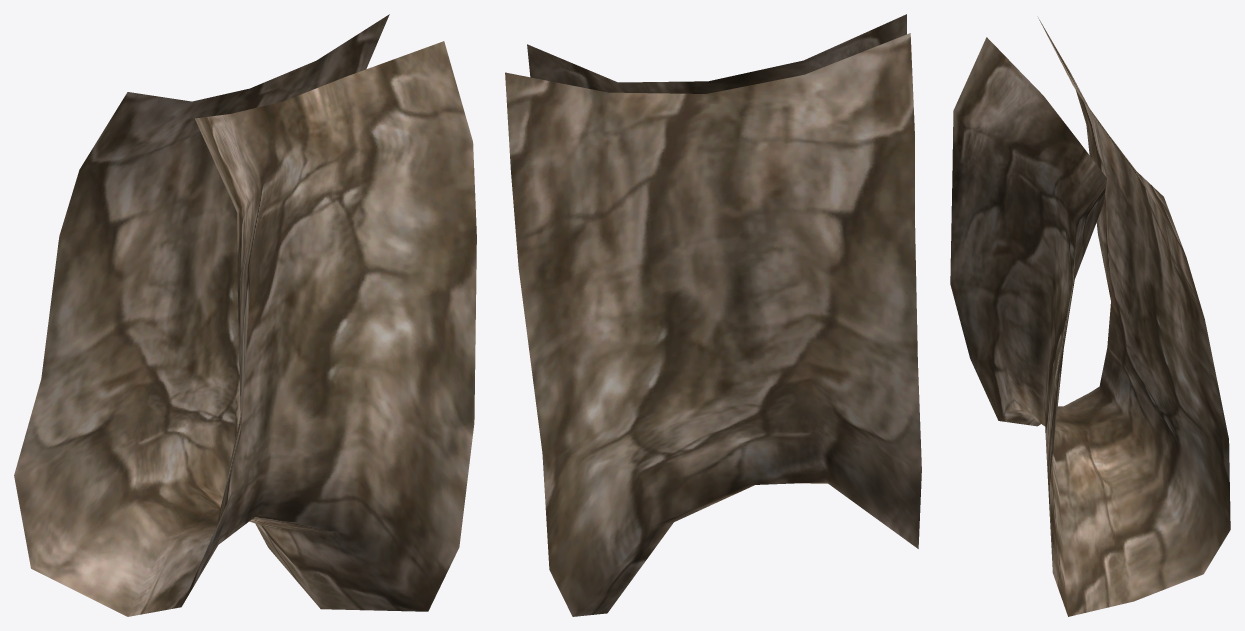
Rendered from OVERHILL_A_01_LINE254.fbx.
The picture shows the model from 3 angles, left to right: view 1: azimuth 30°, elevation 25°; view 2: azimuth 150°, elevation 25°; view 3: azimuth 270°, elevation 25°; orthographic projection. The views are drawn at different scales.
Visible parts, largest first — view 1: OVERHILL_A_01_LINE254; view 2: OVERHILL_A_01_LINE254; view 3: OVERHILL_A_01_LINE254.
Boxes of the visible parts, x1,y1,x2,y2 form: OVERHILL_A_01_LINE254: [14, 14, 476, 616]; OVERHILL_A_01_LINE254: [505, 14, 921, 616]; OVERHILL_A_01_LINE254: [950, 16, 1230, 616].
Bounding box in the file's own units: 39349 × 54325 × 28174.
Materials: 1 (1 with a texture image).
